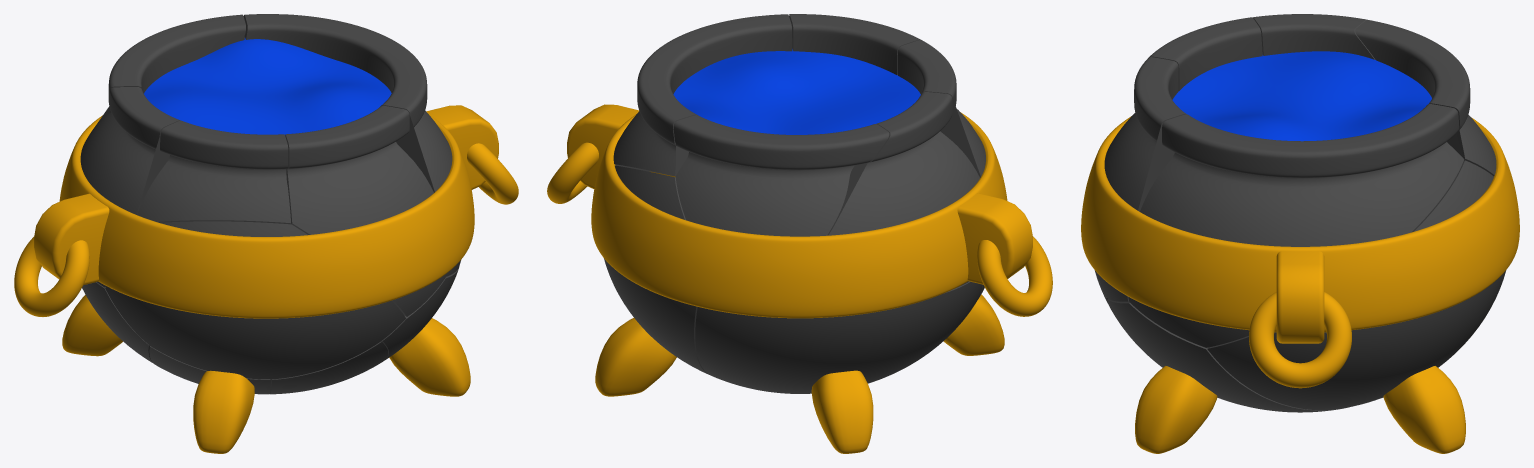
File: calderoAzul.fbx
The picture shows the model from 3 angles, left to right: view 1: azimuth 30°, elevation 25°; view 2: azimuth 150°, elevation 25°; view 3: azimuth 270°, elevation 25°; orthographic projection. The views are drawn at different scales.
Parts seen in each view (by area): view 1: Sphere.003, Circle.077, Sphere_cell.028, Sphere_cell.035, Sphere_cell.027, Sphere_cell.034, Sphere_cell.031, Cube.2128, BézierCircle.002, Sphere_cell.025, Plane.573, Plane.574 (+5 smaller); view 2: Sphere.003, Sphere_cell.025, Sphere_cell.026, Circle.077, Sphere_cell.031, Sphere_cell.034, Cube.2128, Sphere_cell.032, BézierCircle.002, Sphere_cell.035, Plane.572, Plane.571 (+2 smaller); view 3: Sphere.003, Sphere_cell.034, Circle.077, Sphere_cell.032, Sphere_cell.035, Sphere_cell.025, Sphere_cell.029, Plane.571, Plane.574, BézierCircle.002, Cube.2128, Sphere_cell.027 (+1 smaller).
Part boxes in pixels (<box>): Sphere.003: <box>59,114,474,318</box>; Circle.077: <box>144,38,391,135</box>; Sphere_cell.028: <box>105,221,405,379</box>; Sphere_cell.035: <box>285,105,446,316</box>; Sphere_cell.027: <box>136,120,290,224</box>; Sphere_cell.034: <box>243,14,460,276</box>; Sphere_cell.031: <box>80,87,180,287</box>; Cube.2128: <box>34,105,498,284</box>; BézierCircle.002: <box>14,143,518,316</box>; Sphere_cell.025: <box>108,14,245,93</box>; Plane.573: <box>193,370,254,453</box>; Plane.574: <box>389,318,470,396</box>; Sphere.003: <box>591,112,1007,318</box>; Sphere_cell.025: <box>673,115,889,236</box>; Sphere_cell.026: <box>695,281,982,393</box>; Circle.077: <box>673,49,920,134</box>; Sphere_cell.031: <box>827,92,979,287</box>; Sphere_cell.034: <box>613,14,792,176</box>; Cube.2128: <box>567,104,1032,284</box>; Sphere_cell.032: <box>604,165,708,374</box>; BézierCircle.002: <box>547,142,1052,316</box>; Sphere_cell.035: <box>789,14,920,75</box>; Plane.572: <box>811,370,873,453</box>; Plane.571: <box>595,318,676,396</box>; Sphere.003: <box>1081,116,1519,332</box>; Sphere_cell.034: <box>1128,104,1464,347</box>; Circle.077: <box>1172,51,1431,141</box>; Sphere_cell.032: <box>1207,160,1506,410</box>; Sphere_cell.035: <box>1096,57,1186,301</box>; Sphere_cell.025: <box>1355,20,1496,176</box>; Sphere_cell.029: <box>1107,299,1345,412</box>; Plane.571: <box>1383,366,1465,453</box>; Plane.574: <box>1135,366,1217,453</box>; BézierCircle.002: <box>1249,292,1351,388</box>; Cube.2128: <box>1276,251,1324,343</box>; Sphere_cell.027: <box>1134,17,1262,113</box>.
Size of the model in its own units: 428 by 247 by 318.
